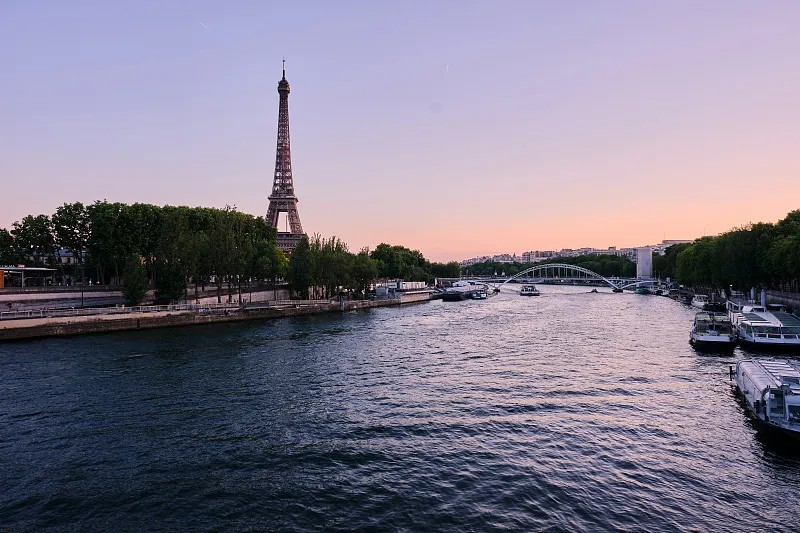Eiffel: (264, 57, 310, 259)
